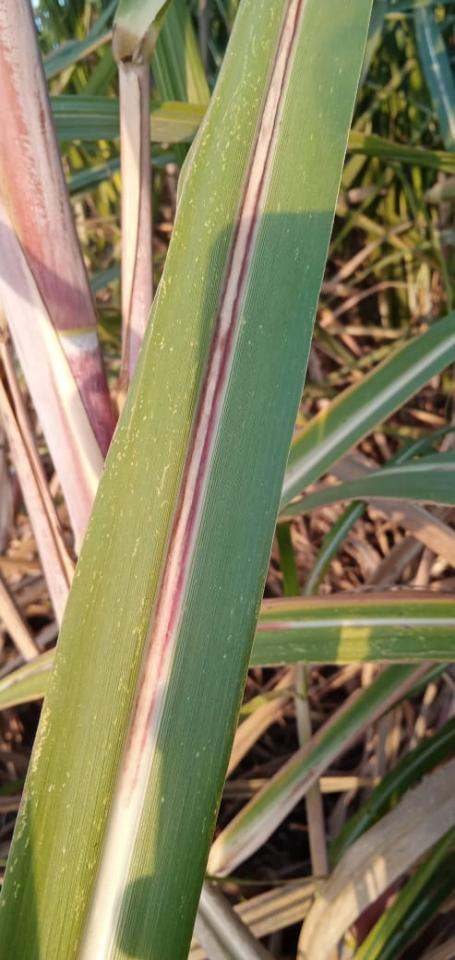RedRot: (110, 0, 303, 812), (256, 620, 295, 632)
